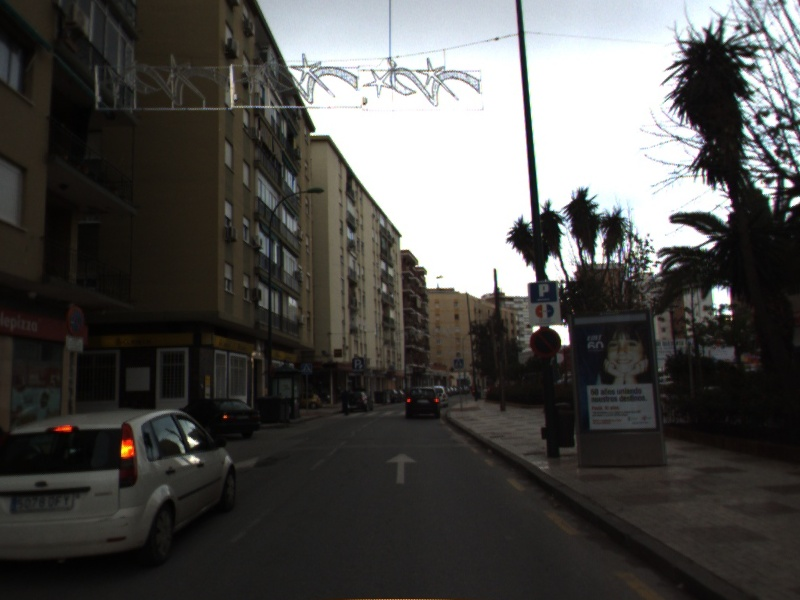STRAIGHT: (383, 450, 421, 487)
